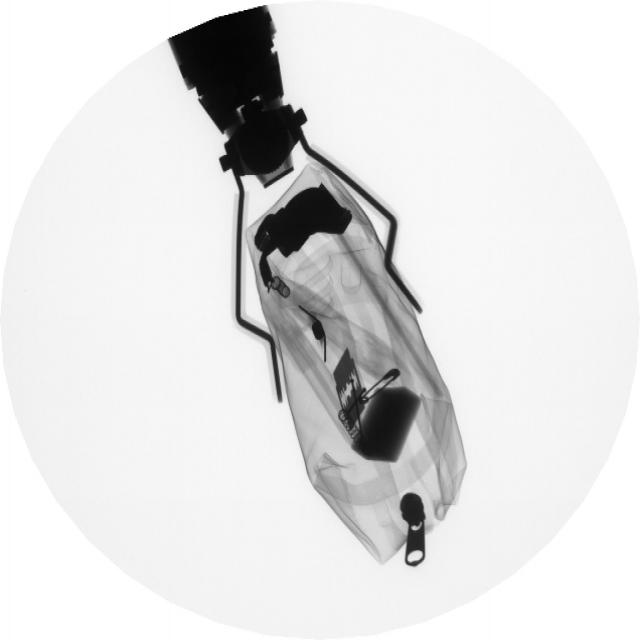BLADE: (331, 346, 371, 437)
